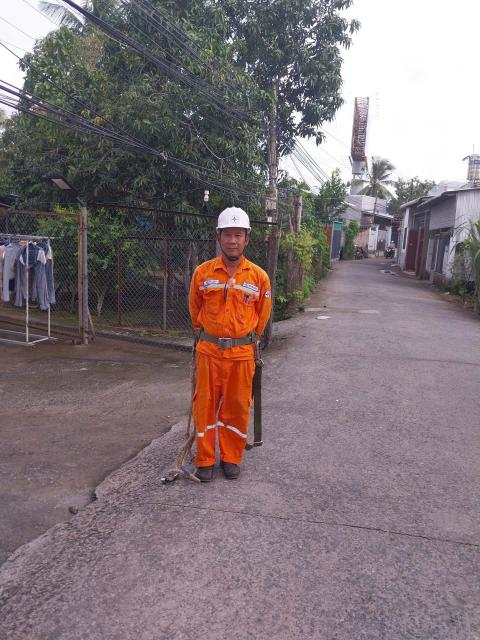harness: (196, 324, 259, 350)
helmet: (202, 197, 260, 242)
shoes: (190, 455, 218, 483), (216, 457, 244, 481)
